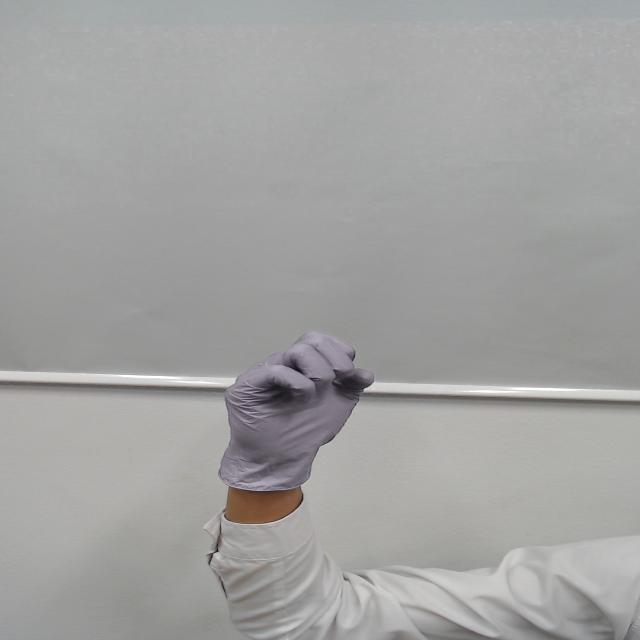glove: (151, 317, 402, 475)
